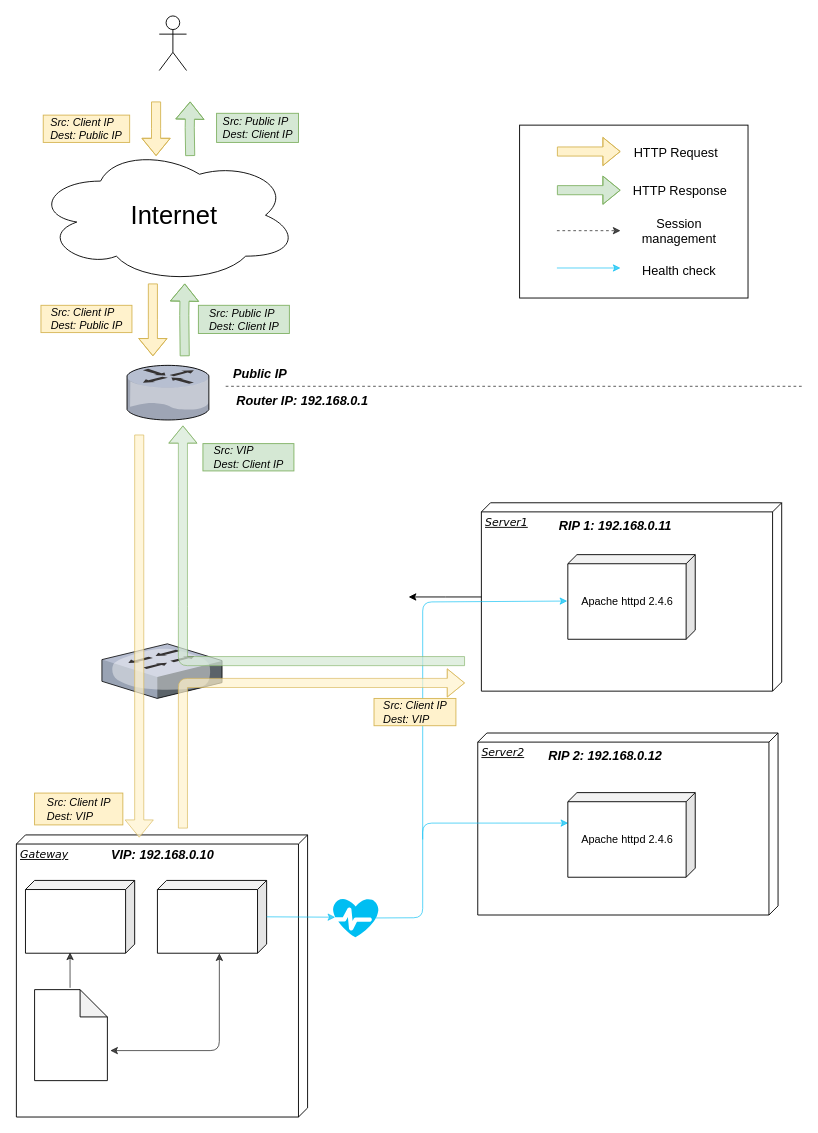
Some shapes in this 818 by 1133 pixel diagram are drawn without their labels. The centre of each missing label's shape, as x and y in pixels:
"- RIP1 - RIP2" belongs at (x=70, y=1035).
"Client" belongs at (x=172, y=43).
"Health monitoring" belongs at (x=355, y=917).
"IPVS" belongs at (x=80, y=916).
"KEEPALIVED" belongs at (x=212, y=916).
"Router + NAT" belongs at (x=168, y=392).
"Switch" belongs at (x=161, y=670).
